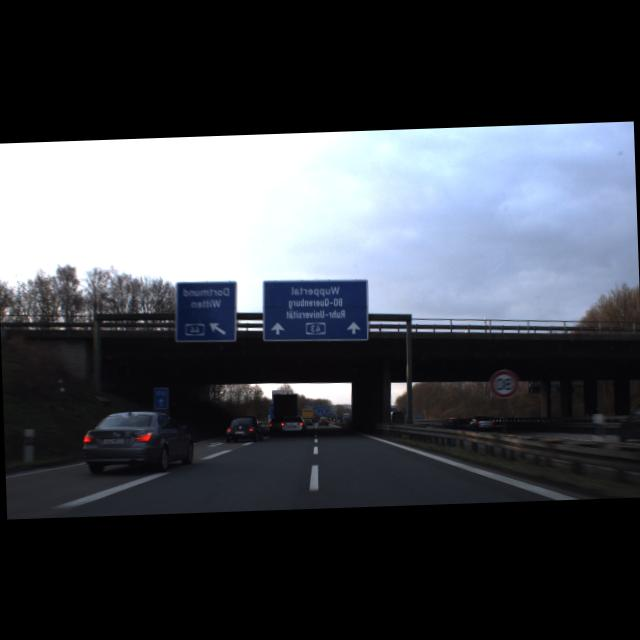prohibitory: (488, 368, 518, 398)
